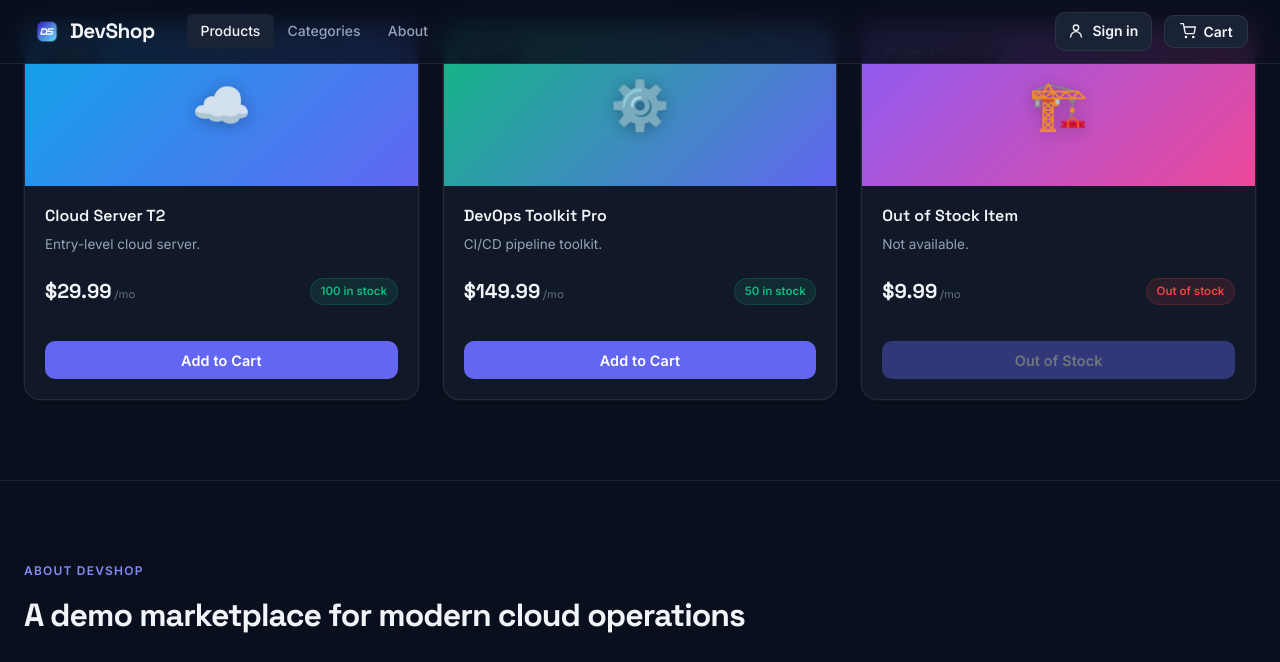
Test: Shopping cart › removes item from cart
(page scrolled)
Expected: the heading "Cloud Server T2" is shown, [45,204,165,226]
Click the button "Add to Cart" below "29.99" at (221, 360), box [45,341,398,380]
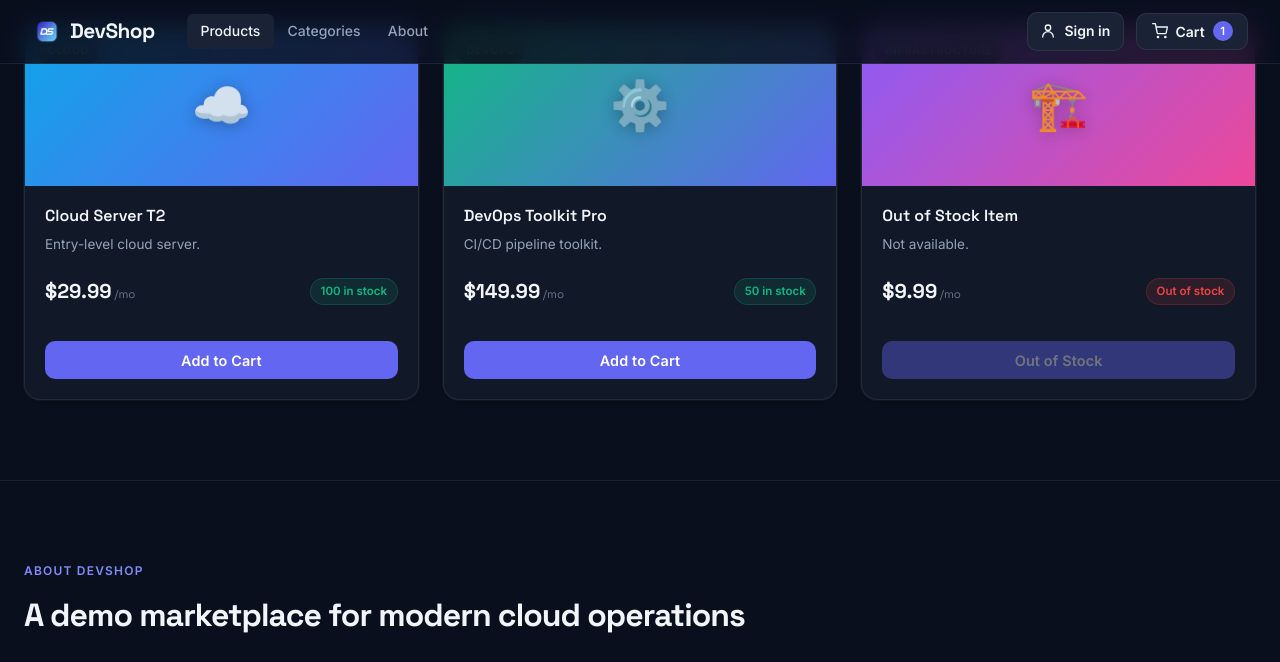
Click the button with aria-label "open cart" at (1192, 32), box [1136,13,1248,50]
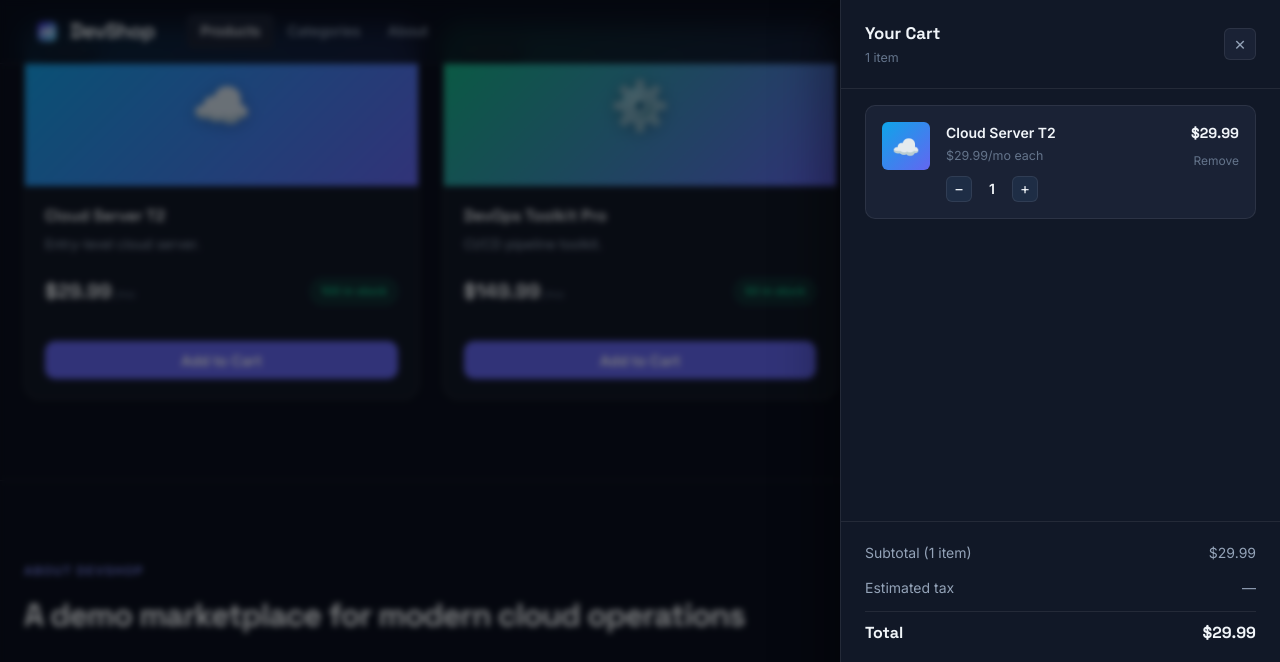
Now the heading "Your Cart" is shown, box [865,20,940,47]
Click the button "Remove" at (1216, 161), box [1194,154,1239,168]
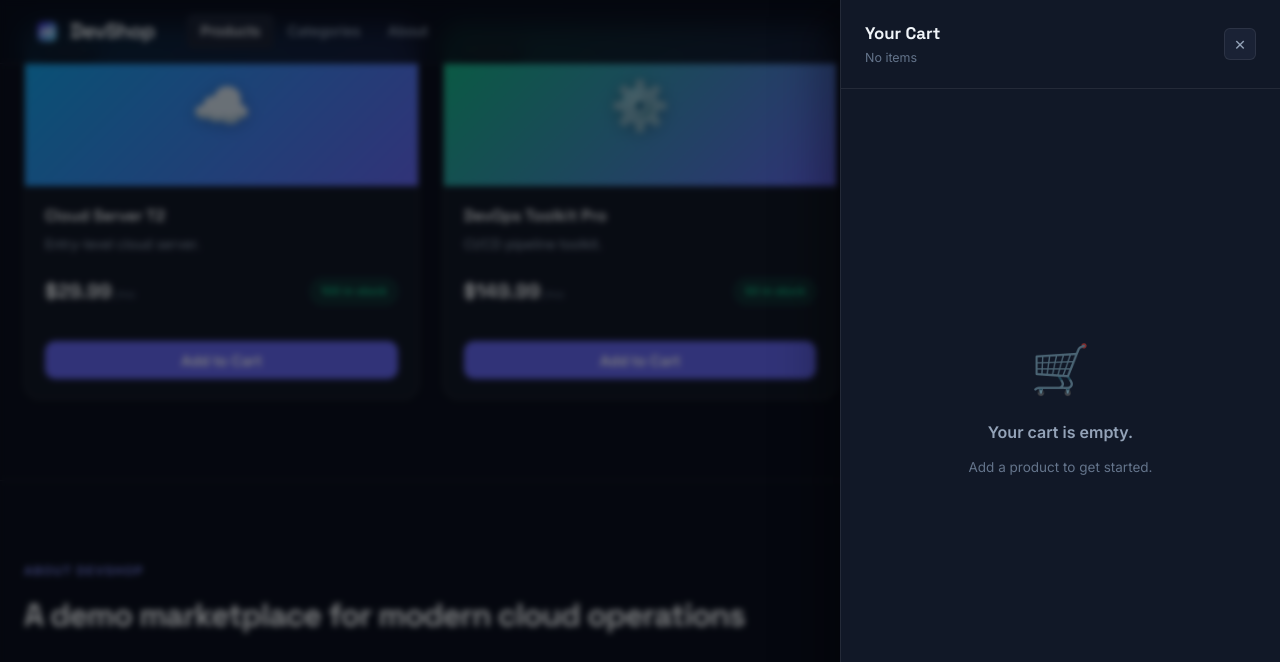
Now the text "Your cart is empty." is shown, box [988,420,1133,445]
